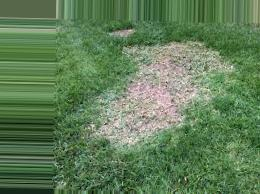patch: (145, 51, 209, 80), (141, 81, 186, 115), (116, 103, 157, 129)
